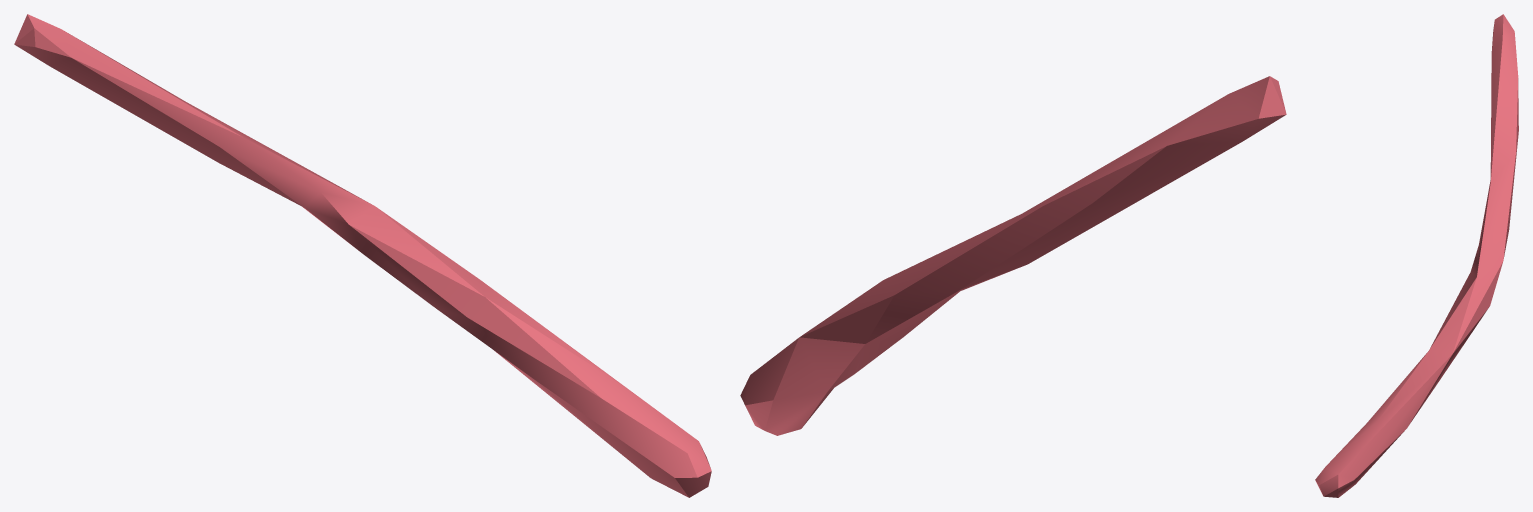
The model's file is fma50520_fj1707m.glb.
3 renders of one model, left to right at view 1: azimuth 30°, elevation 25°; view 2: azimuth 150°, elevation 25°; view 3: azimuth 270°, elevation 25°, orthographic. The views are drawn at different scales.
Visible parts, largest first — view 1: FMA50520_FJ1707M; view 2: FMA50520_FJ1707M; view 3: FMA50520_FJ1707M.
Boxes of the visible parts, x1,y1,x2,y2 form: FMA50520_FJ1707M: (14, 14, 711, 497); FMA50520_FJ1707M: (740, 76, 1286, 435); FMA50520_FJ1707M: (1315, 14, 1518, 497).
Bounding box in the file's own units: 0.00647 × 0.00559 × 0.00321.
